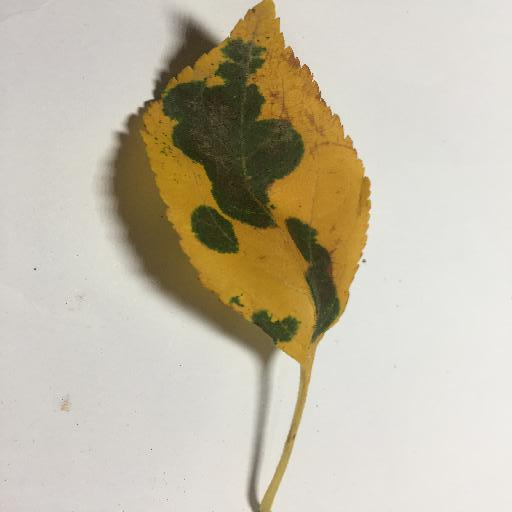Brown_Spot: (178, 80, 298, 203), (301, 239, 335, 320)
